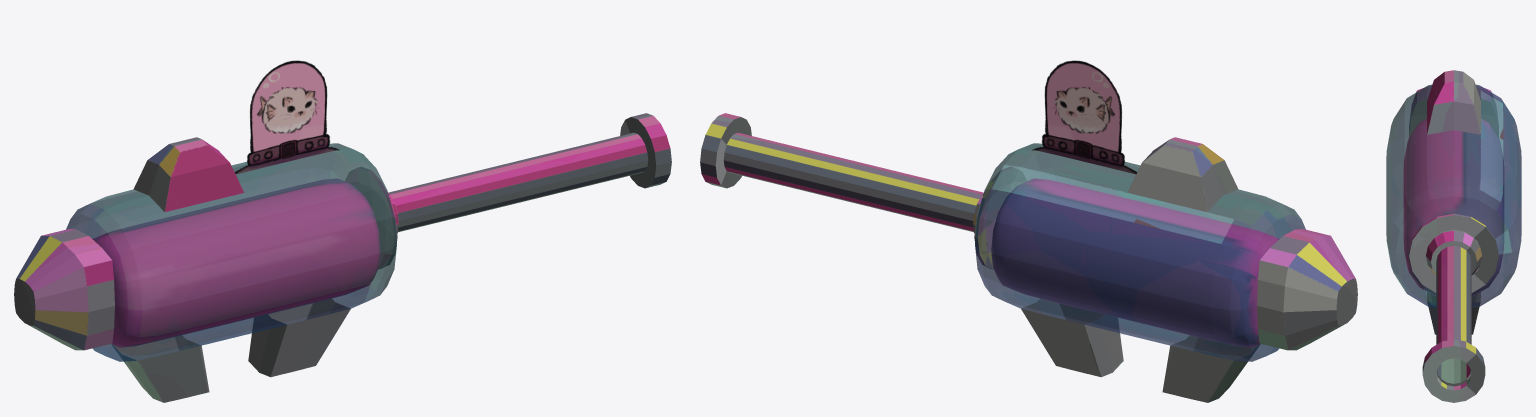
File: ship_enrichment.glb
The picture shows the model from 3 angles, left to right: view 1: azimuth 30°, elevation 25°; view 2: azimuth 150°, elevation 25°; view 3: azimuth 270°, elevation 25°; orthographic projection. The views are drawn at different scales.
Parts seen in each view (by area): view 1: ship_enrichment; view 2: ship_enrichment; view 3: ship_enrichment.
Part boxes in pixels (<box>): ship_enrichment: <box>14,60,671,402</box>; ship_enrichment: <box>700,60,1357,402</box>; ship_enrichment: <box>1386,70,1521,402</box>.
Bounding box in the file's own units: 2.21 × 1.14 × 0.4787.
1 material, 1 textured.
